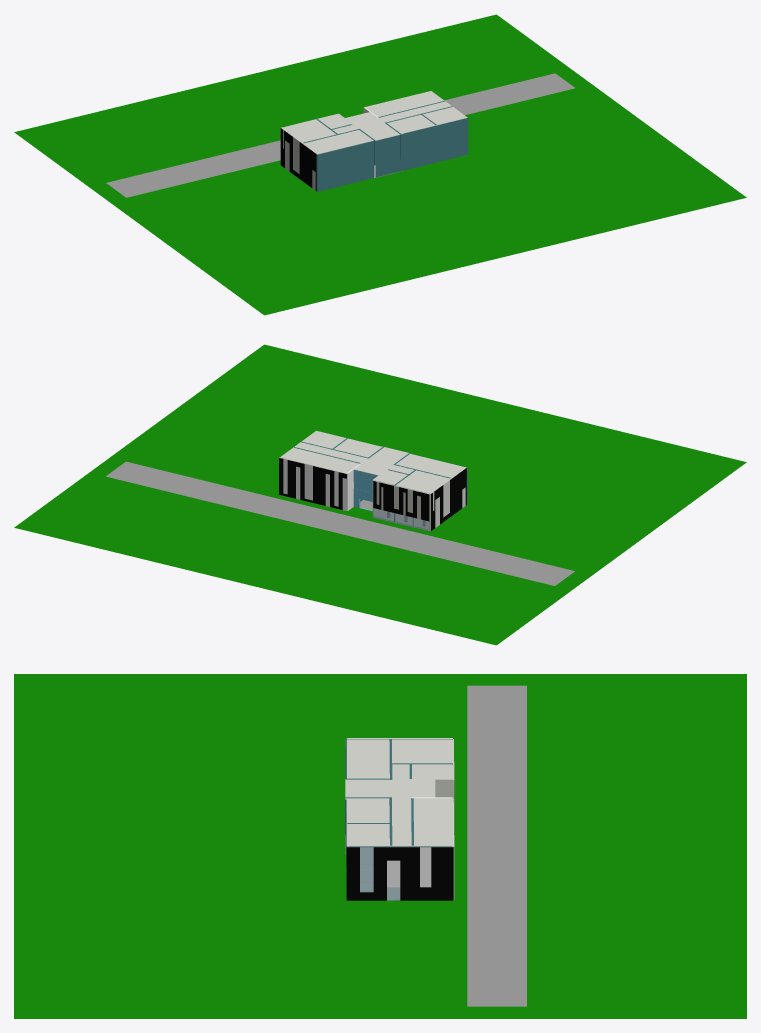
The model's file is campus.glb.
3 renders of one model, top to bottom at view 1: azimuth 30°, elevation 25°; view 2: azimuth 150°, elevation 25°; view 3: azimuth 270°, elevation 25°, orthographic. The views are drawn at different scales.
Parts seen in each view (by area): view 1: Plane, Plane.001, achtermuur, Cube.060, eetgrondverdiep2.003, Cube.007, inkomgrondverdiep2.003; view 2: Plane, Plane.001, achtermuur.001, Cube.060, eetgrondverdiep2.003, achtermuur.002, Cube.007, inkomgrondverdiep2.003, achtermuur.003, Plane.002; view 3: Plane, Plane.001, Cube.006, Cube.060, eetgrondverdiep2.003, inkomgrondverdiep2.003, Cube.074.
Boxes of the visible parts, x1,y1,x2,y2 form: Plane: (14,14,746,315); Plane.001: (106,73,575,197); achtermuur: (316,118,467,191); Cube.060: (365,91,467,133); eetgrondverdiep2.003: (282,114,373,154); Cube.007: (280,127,317,190); inkomgrondverdiep2.003: (345,112,402,140); Plane: (14,344,746,645); Plane.001: (106,461,574,585); achtermuur.001: (279,457,347,510); Cube.060: (280,430,381,473); eetgrondverdiep2.003: (374,453,465,493); achtermuur.002: (372,480,430,531); Cube.007: (429,467,466,531); inkomgrondverdiep2.003: (354,446,408,475); achtermuur.003: (353,470,377,510); Plane.002: (373,508,429,529); Plane: (14,674,746,1018); Plane.001: (467,685,526,1006); Cube.006: (346,846,453,900); Cube.060: (346,798,453,846); eetgrondverdiep2.003: (347,738,452,780); inkomgrondverdiep2.003: (345,779,435,799); Cube.074: (360,847,373,892).
Size of the model in its own units: 117 by 9.15 by 105.
